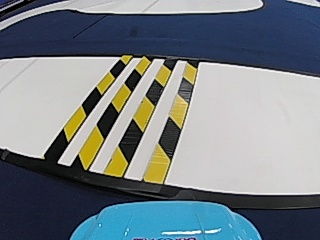bump: (44, 60, 197, 174)
